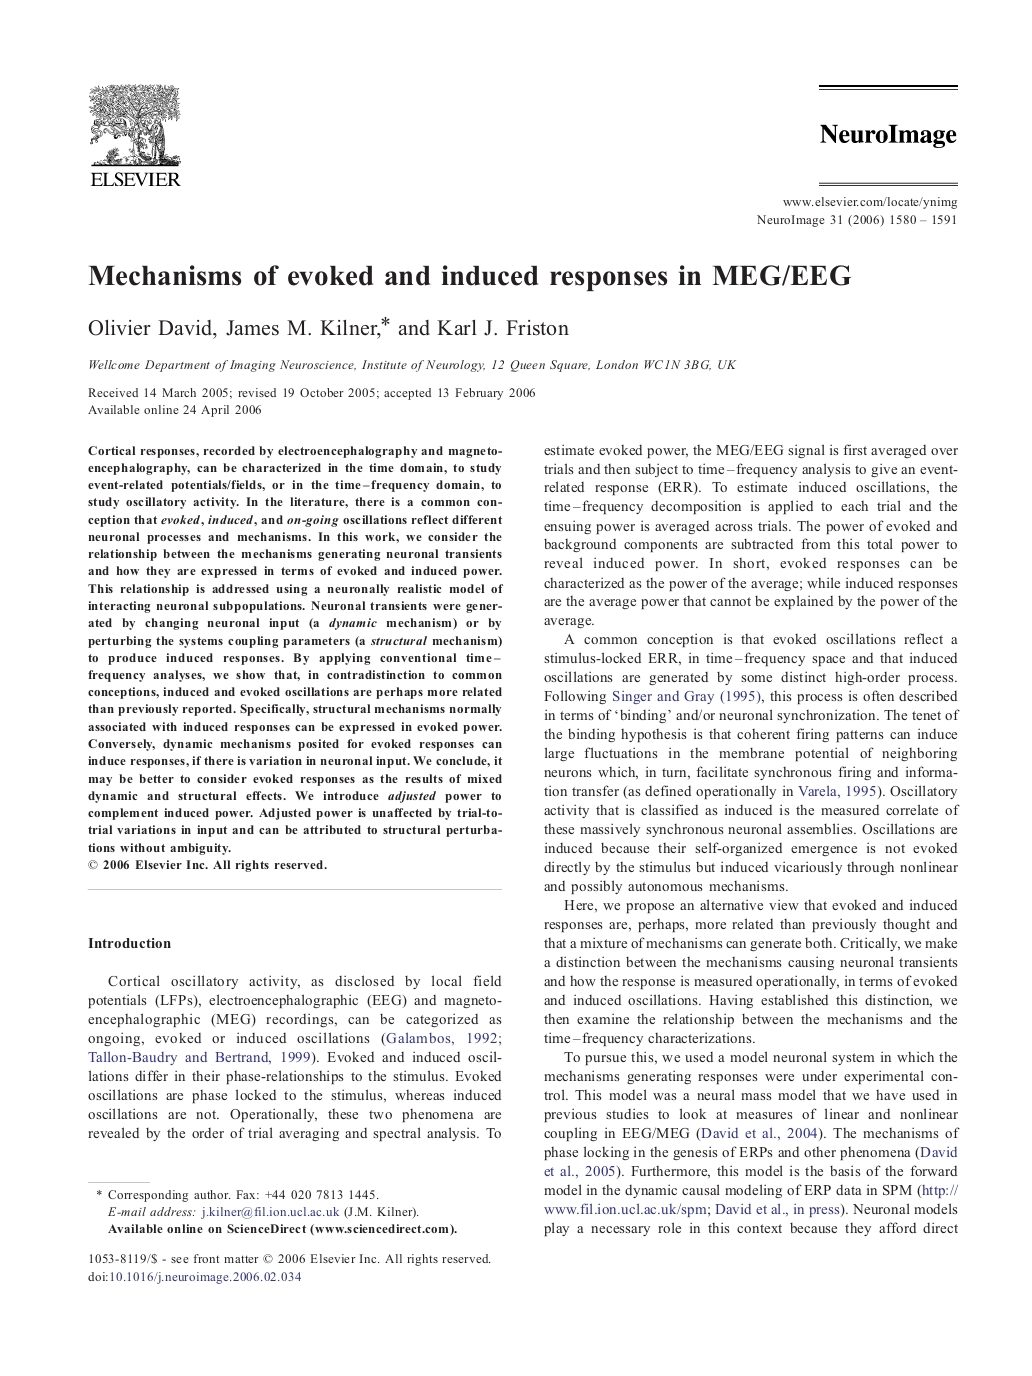figure: (89, 85, 180, 166)
